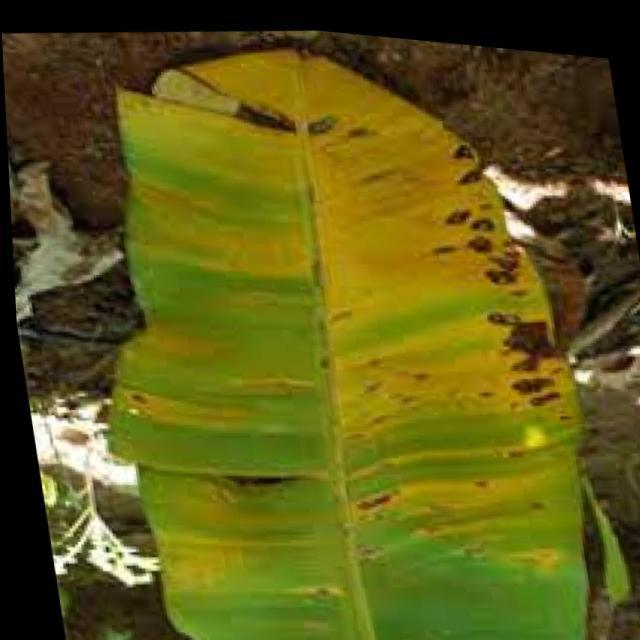Early_rust: (90, 66, 587, 640)
